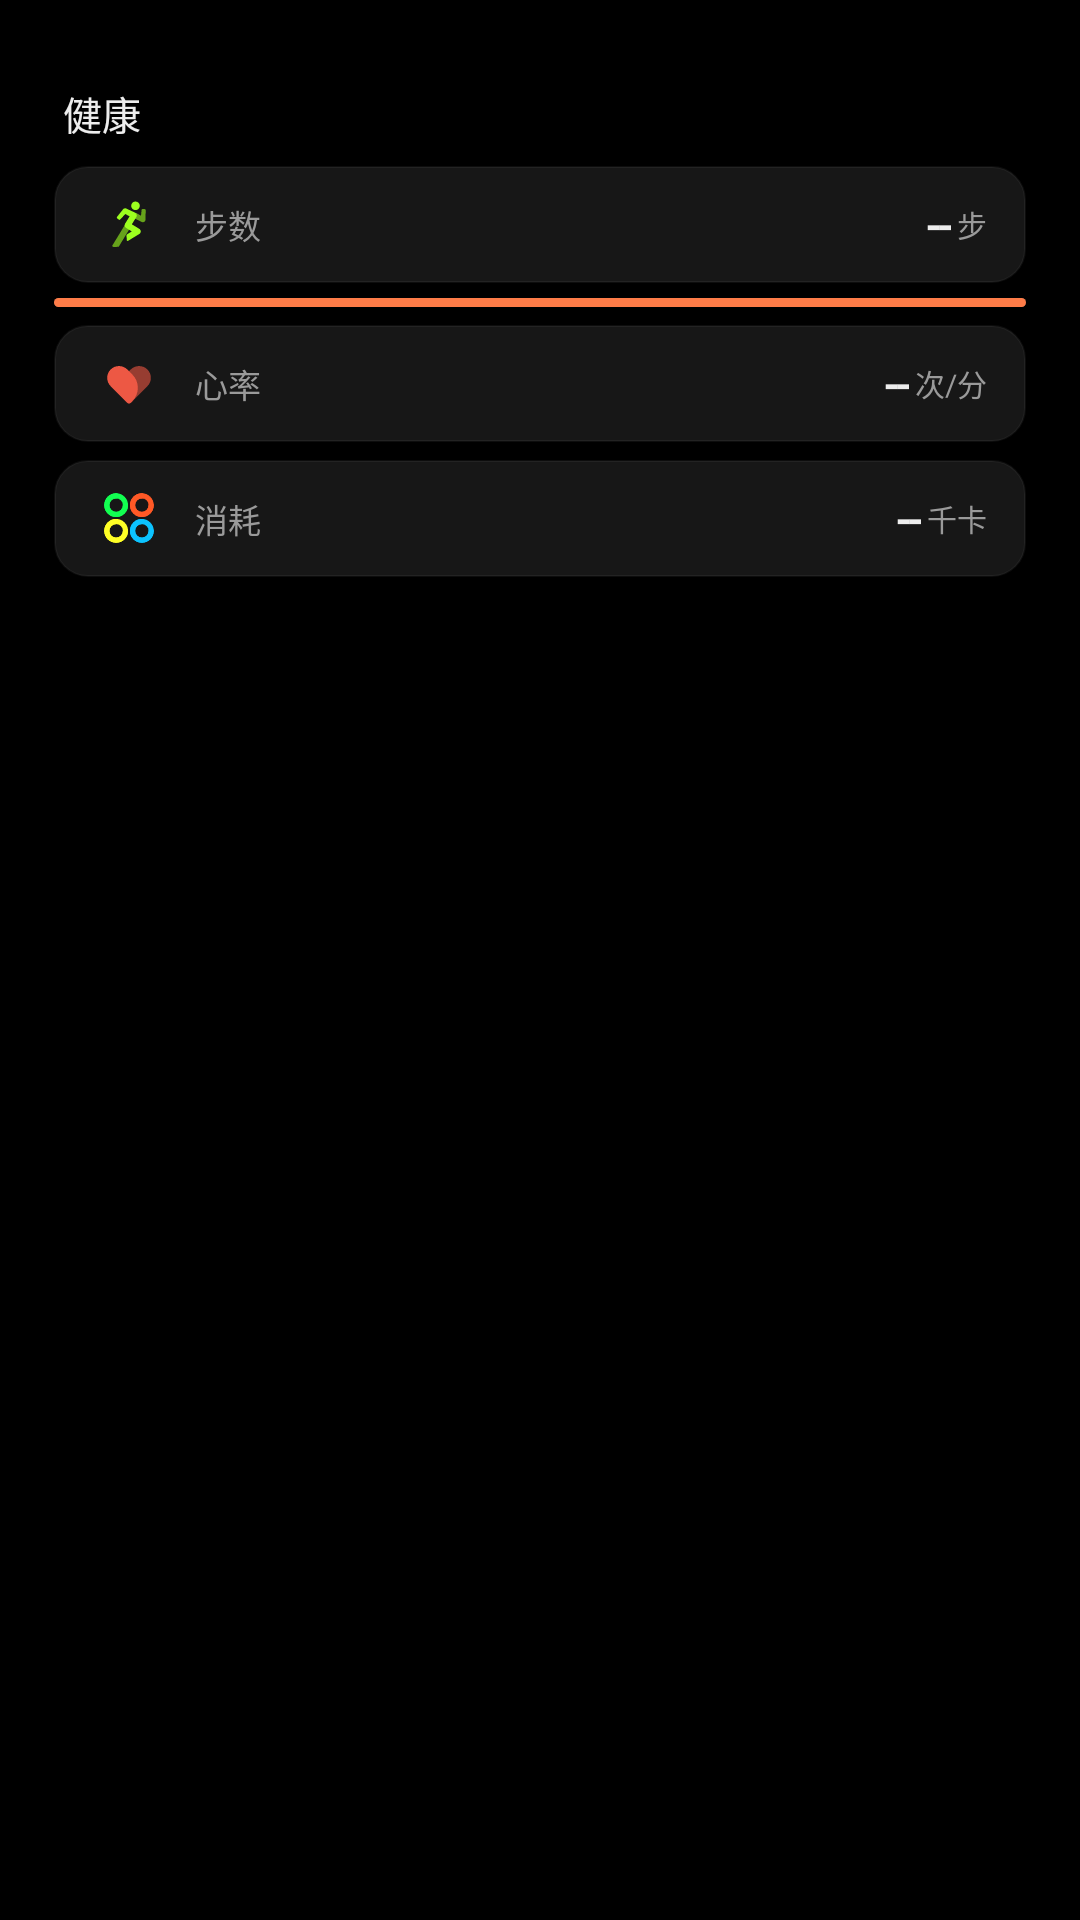

Screen size 1080px×1920px. Icon name, then its center in pixels as point (x, y):
heartrate: point (129, 385)
sports: point (129, 224)
